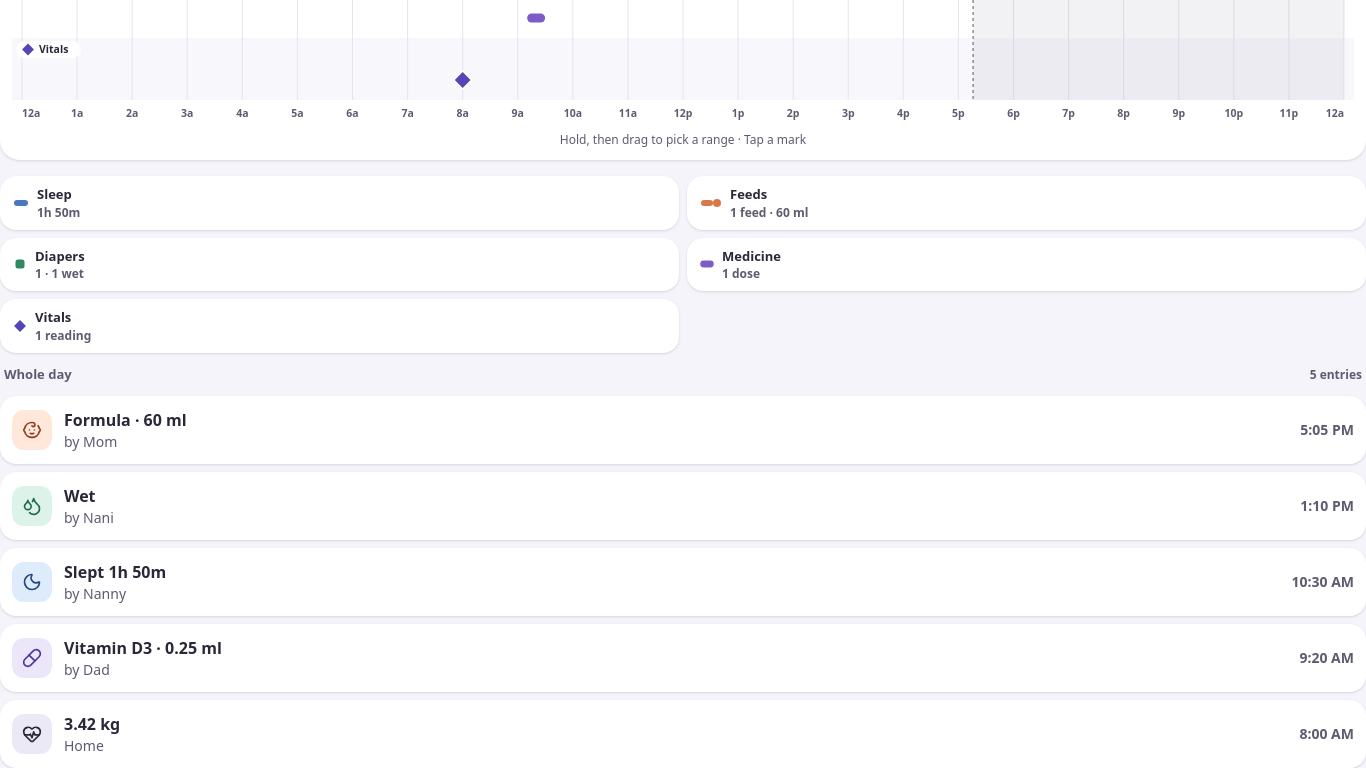
Test: tapping a row opens it with Edit and Delete
(page scrolled)
Expected: the button "Wet by Nani 1:10 PM" is shown, left=0, top=472, right=1365, bottom=540
What coordinates should you click on to do the following:
click the text "Wet"
I would click on:
 (80, 496)
Its box is left=64, top=485, right=96, bottom=507.
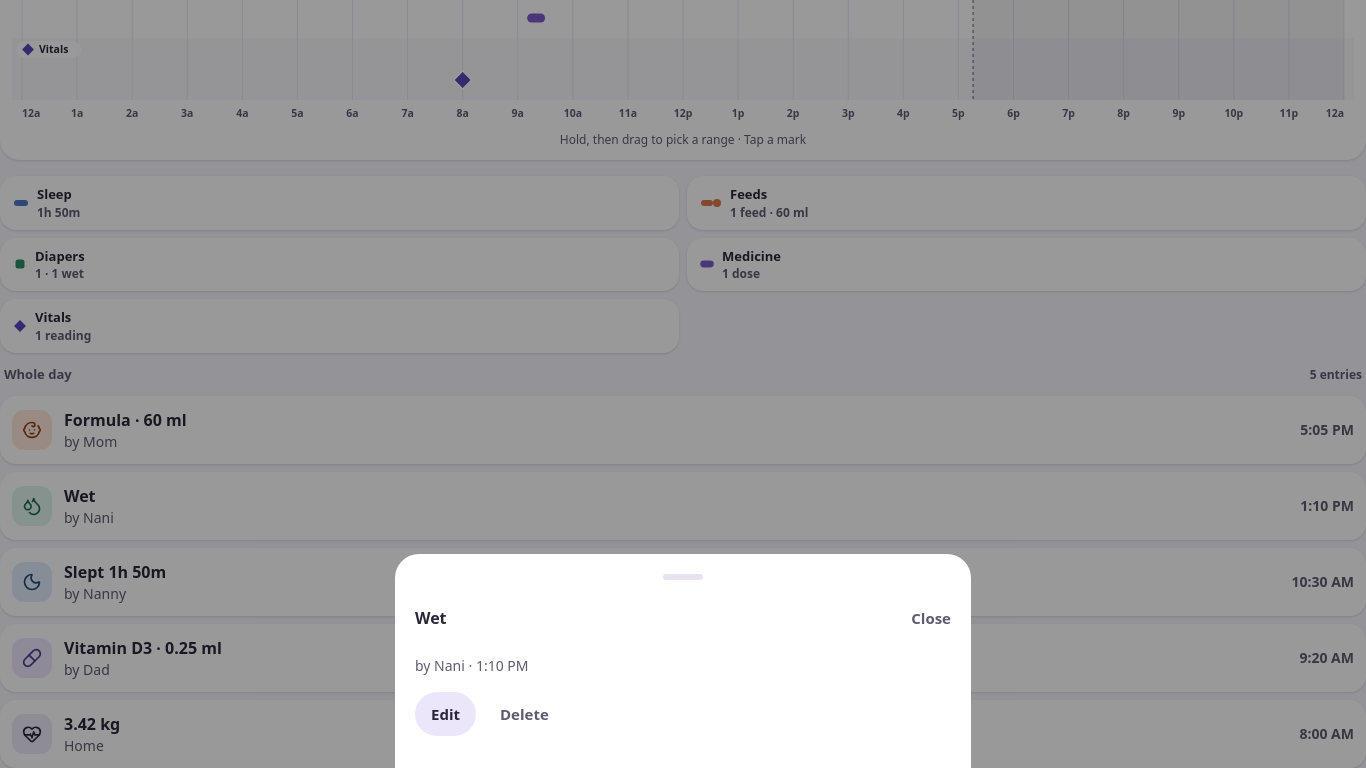
Expected: the button "Edit" is shown, left=415, top=692, right=476, bottom=736
Expected: the button "Delete" is shown, left=484, top=692, right=565, bottom=736
